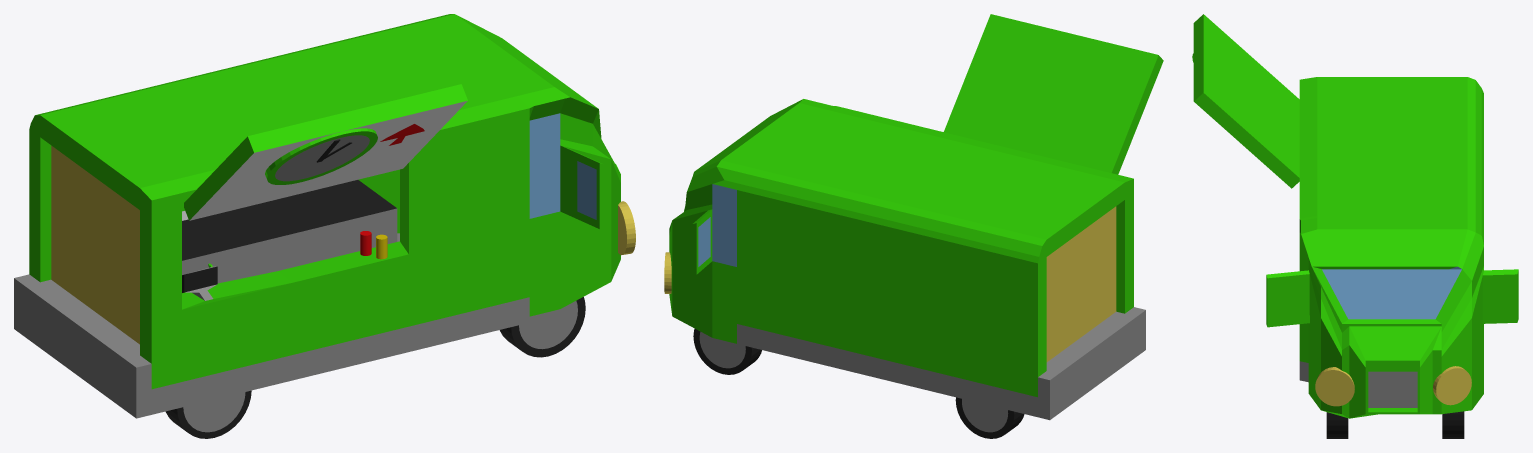
File: foodtruck.fbx
3 views of the same model, side by side, from view 1: azimuth 30°, elevation 25°; view 2: azimuth 150°, elevation 25°; view 3: azimuth 270°, elevation 25° (orthographic). The views are drawn at different scales.
Visible parts, largest first — view 1: Cube; view 2: Cube; view 3: Cube.
Part boxes in pixels (<box>): Cube: <box>14,14,635,438</box>; Cube: <box>664,14,1163,438</box>; Cube: <box>1192,14,1518,438</box>.
Bounding box in the file's own units: 2277 × 1550 × 1629.
